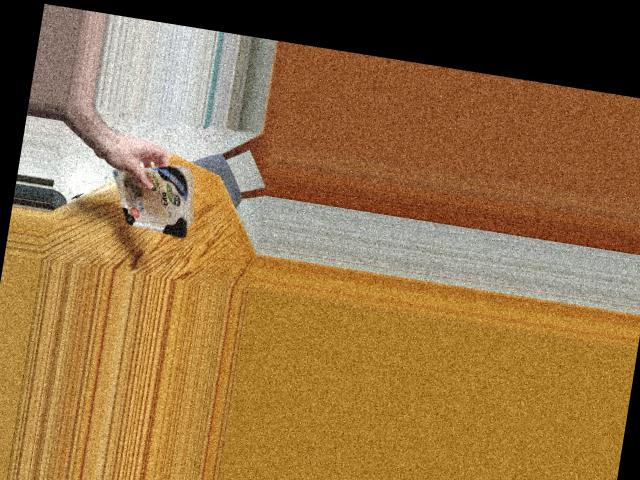cheese: (121, 156, 204, 235)
